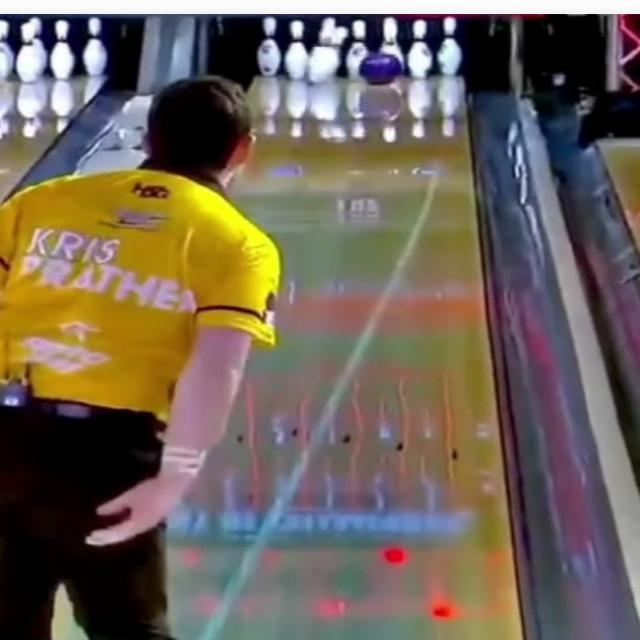alley: (170, 76, 520, 639)
balls: (359, 52, 402, 84)
bottle: (256, 16, 461, 81)
